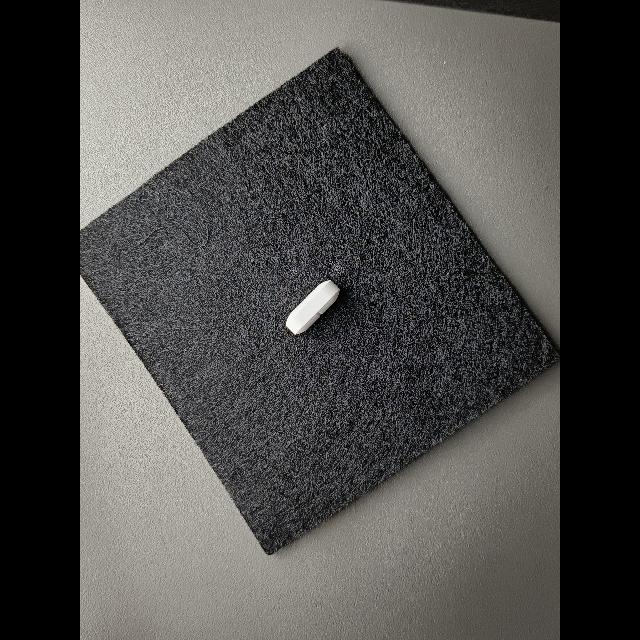Intact Pill: (286, 280, 340, 335)
